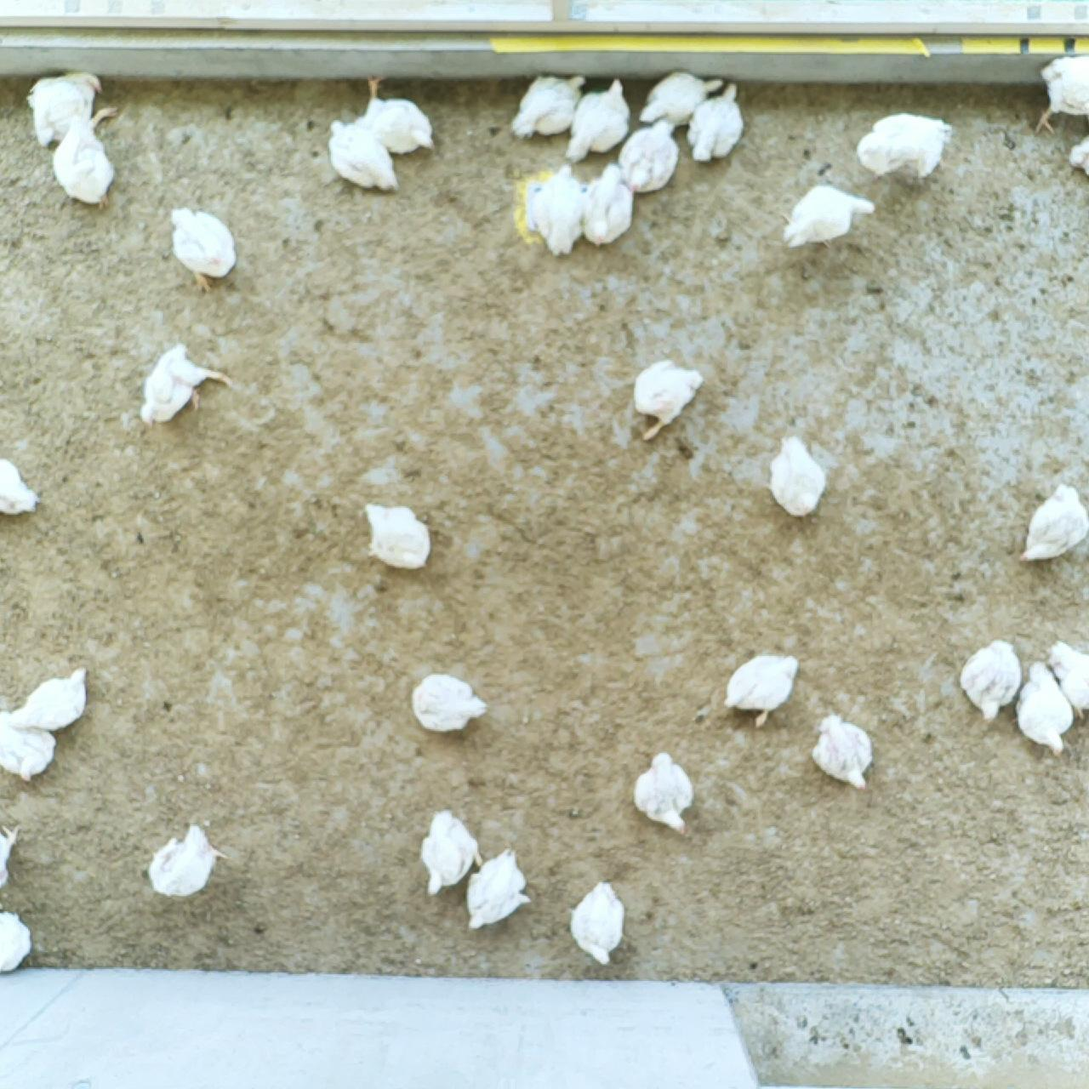chicken: (136, 340, 238, 430), (28, 63, 122, 154), (51, 105, 123, 211), (856, 112, 956, 183), (352, 74, 437, 156), (721, 649, 806, 731), (144, 820, 227, 902), (777, 183, 869, 252), (356, 494, 436, 573), (324, 114, 401, 196), (464, 842, 534, 931), (1015, 661, 1081, 755), (0, 665, 94, 731), (168, 205, 237, 294), (632, 358, 704, 443), (559, 77, 629, 163), (626, 750, 697, 834), (526, 164, 590, 257), (618, 110, 682, 202), (955, 637, 1025, 721), (420, 808, 486, 896), (567, 876, 628, 971), (763, 429, 828, 517), (1018, 485, 1089, 564), (408, 671, 490, 737), (638, 68, 723, 131), (578, 164, 639, 249), (810, 713, 875, 791), (511, 73, 587, 139), (0, 702, 61, 783), (686, 78, 742, 166), (1034, 53, 1089, 137), (1042, 637, 1089, 719), (0, 453, 43, 522), (0, 905, 36, 975), (0, 818, 26, 899), (1060, 131, 1089, 183)
